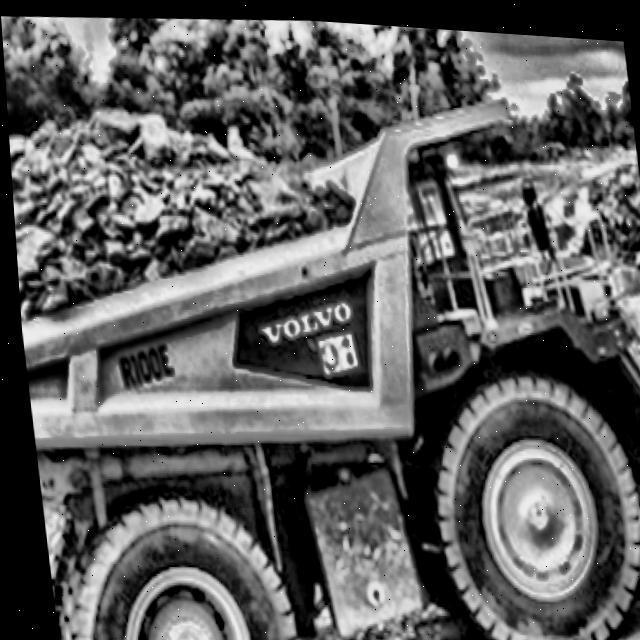dump_truck: (2, 41, 640, 640)
